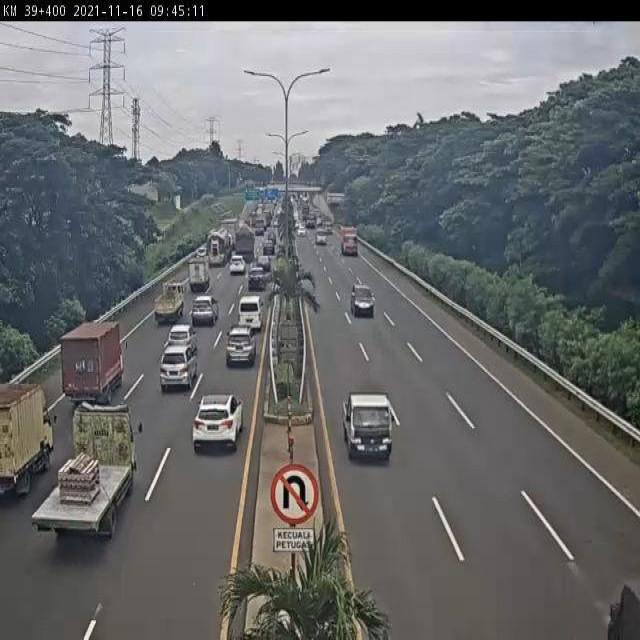car: (341, 389, 393, 460), (192, 392, 243, 451), (160, 348, 199, 392), (223, 331, 255, 373), (189, 295, 216, 328), (349, 283, 375, 316), (165, 328, 190, 353), (247, 268, 268, 293), (227, 256, 246, 276)
small bus: (236, 299, 262, 332)
small truck: (0, 389, 58, 496), (150, 284, 180, 331), (187, 260, 209, 293)
truck-m-: (34, 408, 141, 537), (62, 325, 125, 399)
